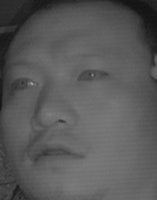eye: (74, 64, 110, 86), (6, 72, 38, 93)
mouth: (30, 137, 84, 170)
